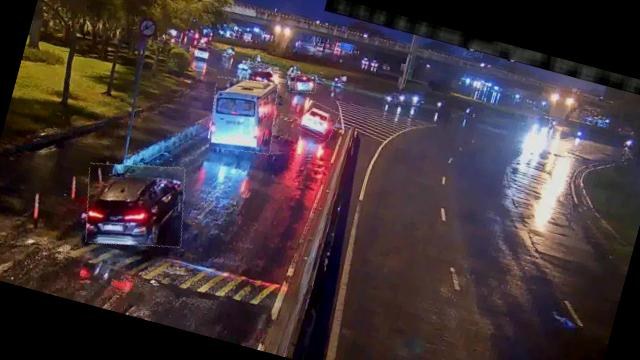Bus: (202, 70, 284, 160)
Car: (74, 150, 196, 260), (297, 100, 340, 141), (244, 61, 282, 94), (287, 70, 318, 96)
